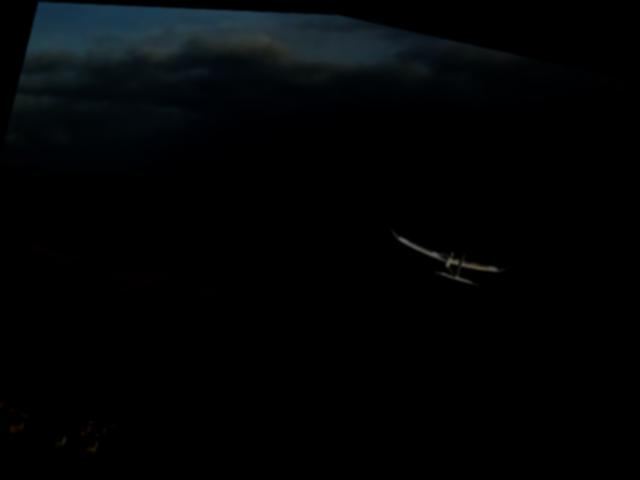iha: (378, 210, 524, 289)
